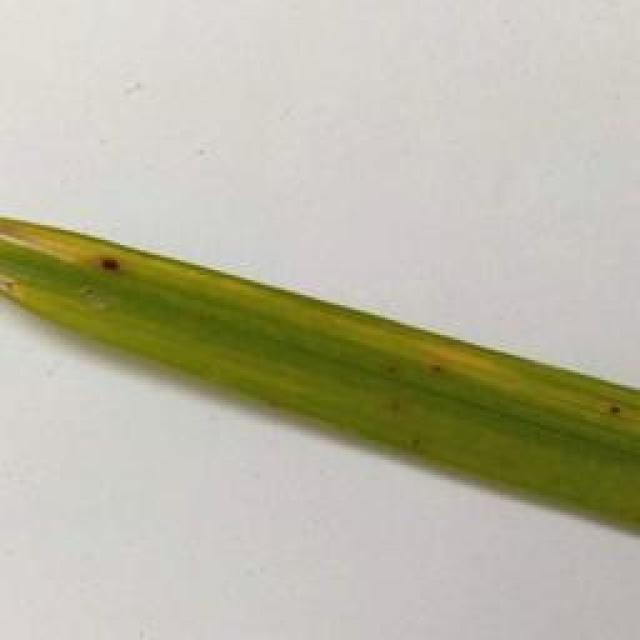Brown_Spot: (95, 252, 128, 278), (385, 390, 412, 419), (378, 361, 405, 380), (408, 435, 429, 455), (429, 360, 445, 378), (607, 404, 621, 417)
